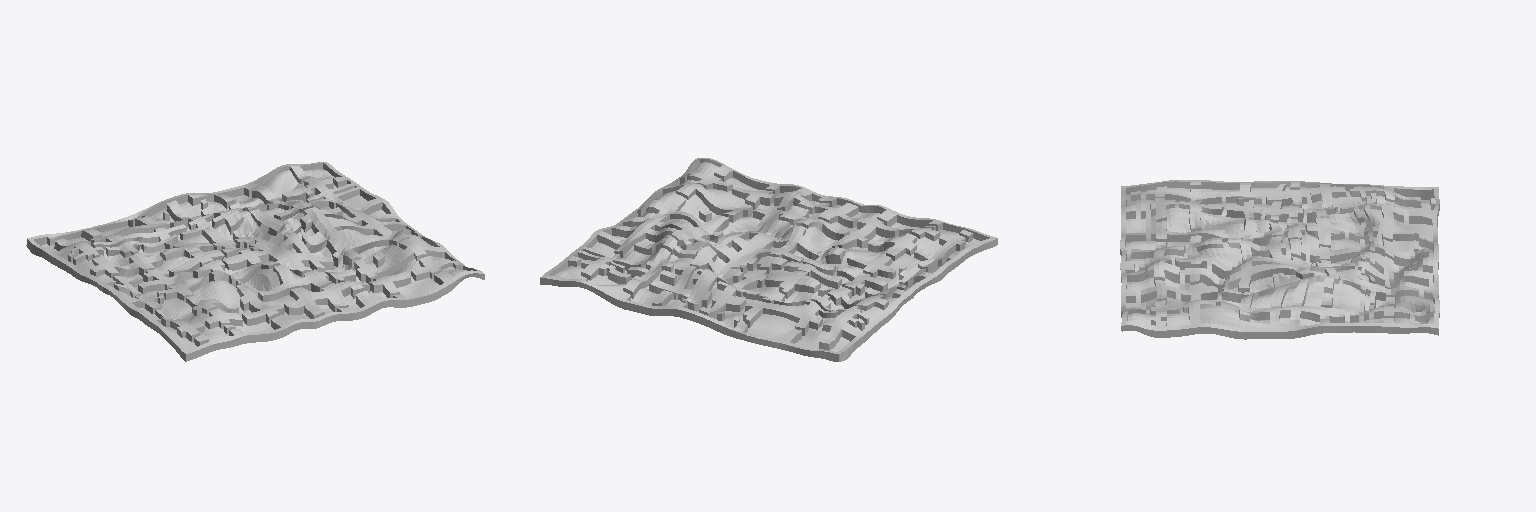
The model's file is def3backrooms.obj.
3 renders of one model, left to right at view 1: azimuth 30°, elevation 25°; view 2: azimuth 150°, elevation 25°; view 3: azimuth 270°, elevation 25°, orthographic.
Visible parts, largest first — view 1: Plane; view 2: Plane; view 3: Plane.
Boxes of the visible parts, x1,y1,x2,y2 form: Plane: [26, 162, 484, 361]; Plane: [540, 158, 997, 361]; Plane: [1120, 180, 1439, 339].
Size of the model in its own units: 264 by 27.17 by 242.